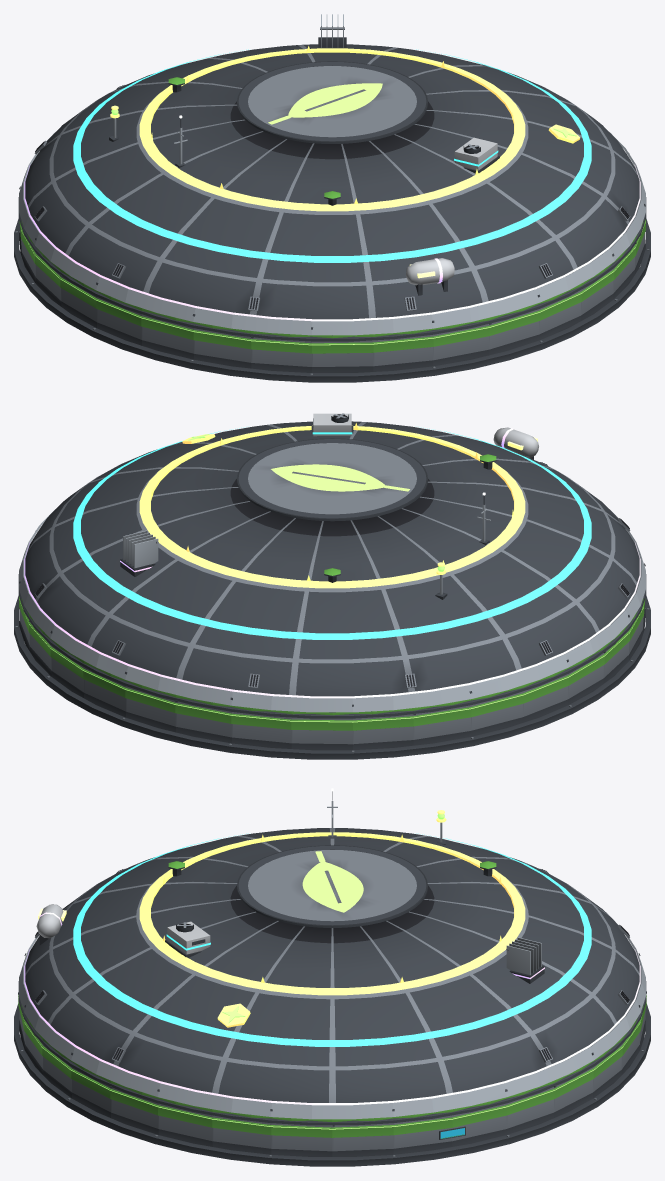
Rendered from fungus_farm_xl.glb.
The picture shows the model from 3 angles, top to bottom: view 1: azimuth 30°, elevation 25°; view 2: azimuth 150°, elevation 25°; view 3: azimuth 270°, elevation 25°; orthographic projection.
Parts seen in each view (by area): view 1: Roof, Base, L5, L3, Wall_21, Wall_20, Wall_22, Wall_19, Wall_23, L4, Wall_18, Wall_24 (+15 smaller); view 2: Roof, Base, L5, L3, L4, Wall_10, Wall_11, Wall_09, Wall_12, Wall_08, Wall_13, Wall_07 (+16 smaller); view 3: Roof, Base, L5, L3, L4, Wall_00, Wall_31, Wall_30, Wall_01, Wall_29, Wall_02, Wall_28 (+17 smaller).
Boxes of the visible parts, x1,y1,x2,y2 form: Roof: (18, 44, 646, 341); Base: (14, 218, 650, 382); L5: (109, 46, 580, 211); L3: (73, 49, 591, 262); Wall_21: (312, 340, 373, 372); Wall_20: (251, 336, 311, 372); Wall_22: (373, 335, 433, 371); Wall_19: (193, 328, 251, 368); Wall_23: (433, 324, 489, 366); L4: (318, 14, 454, 295); Wall_18: (141, 314, 193, 359); Wall_24: (489, 309, 539, 355); Roof: (18, 421, 646, 718); Base: (14, 595, 650, 759); L5: (139, 423, 525, 599); L3: (73, 413, 591, 639); L4: (120, 427, 538, 576); Wall_10: (291, 717, 352, 750); Wall_11: (353, 714, 413, 750); Wall_09: (231, 712, 291, 748); Wall_12: (413, 705, 471, 745); Wall_08: (175, 700, 231, 743); Wall_13: (471, 691, 523, 736); Wall_07: (125, 686, 175, 732); Roof: (18, 828, 646, 1125); Base: (14, 1004, 650, 1166); L5: (139, 810, 525, 1027); L3: (73, 833, 591, 1046); L4: (36, 904, 544, 983); Wall_00: (332, 1123, 393, 1156); Wall_31: (271, 1123, 332, 1156); Wall_30: (212, 1115, 271, 1154); Wall_01: (393, 1115, 452, 1154); Wall_29: (158, 1103, 212, 1146); Wall_02: (452, 1103, 506, 1146); Wall_28: (110, 1086, 158, 1134).
Bounding box in the file's own units: 23.15 × 6.78 × 23.15.
